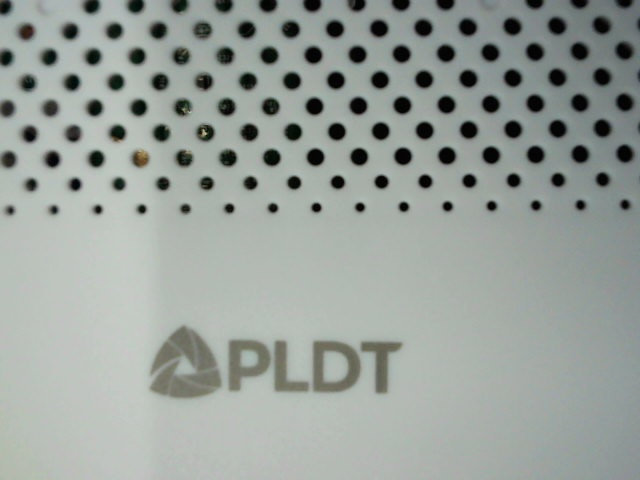BH_PLDT: (133, 315, 409, 418)
